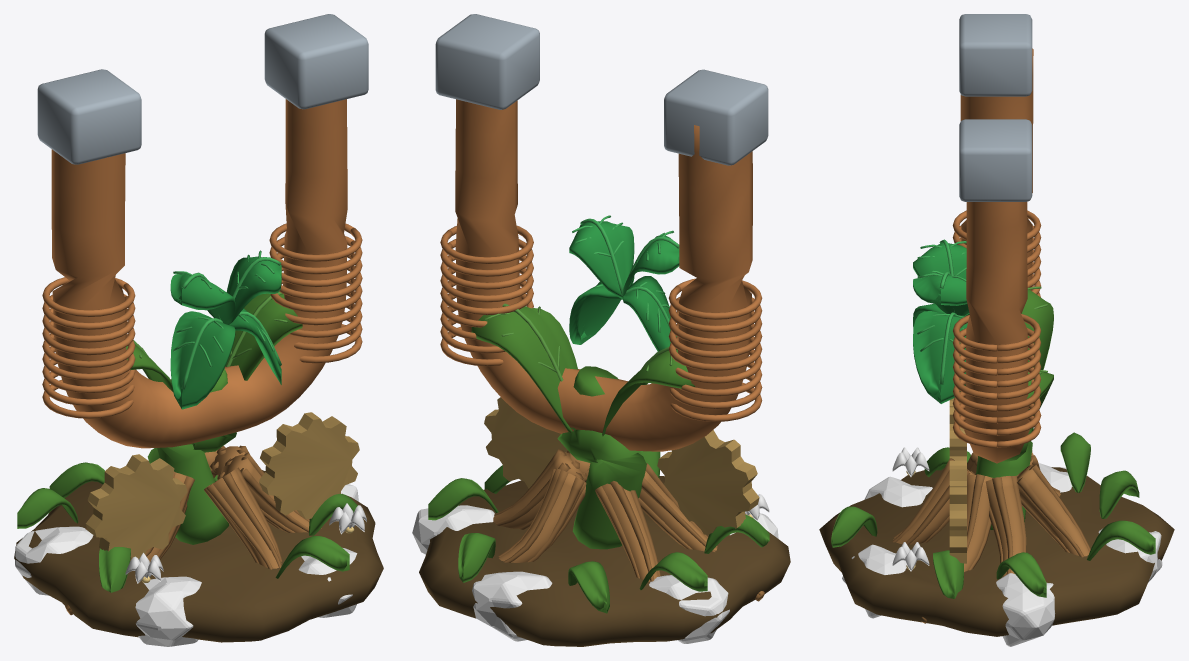
File: magnet-4.fbx
3 renders of one model, left to right at view 1: azimuth 30°, elevation 25°; view 2: azimuth 150°, elevation 25°; view 3: azimuth 270°, elevation 25°, orthographic. The views are drawn at different scales.
Parts seen in each view (by area): view 1: Barrel_Metal, magnet-4_Organic, Core_Metal, Coils_Metal, Clover_PortalBamboo, Turret_PortalBamboo, magnet-4_Bark, magnet-4_Stone, magnet-4_PortalBamboo, magnet-4_Petal; view 2: Barrel_Metal, magnet-4_Organic, Coils_Metal, Turret_PortalBamboo, magnet-4_Bark, Core_Metal, Clover_PortalBamboo, magnet-4_PortalBamboo, magnet-4_Stone; view 3: Barrel_Metal, magnet-4_Organic, magnet-4_Bark, Coils_Metal, magnet-4_PortalBamboo, Clover_PortalBamboo, magnet-4_Stone, Turret_PortalBamboo, Core_Metal, magnet-4_Petal.
Boxes of the visible parts, <box> form: Barrel_Metal: <box>37,14,368,448</box>; magnet-4_Organic: <box>14,470,383,642</box>; Core_Metal: <box>85,412,359,559</box>; Coils_Metal: <box>42,223,362,418</box>; Clover_PortalBamboo: <box>170,250,281,409</box>; Turret_PortalBamboo: <box>126,292,302,544</box>; magnet-4_Bark: <box>65,445,321,615</box>; magnet-4_Stone: <box>15,484,358,646</box>; magnet-4_PortalBamboo: <box>17,462,357,592</box>; magnet-4_Petal: <box>125,503,366,583</box>; Barrel_Metal: <box>435,14,768,451</box>; magnet-4_Organic: <box>419,476,790,646</box>; Coils_Metal: <box>440,225,762,421</box>; Turret_PortalBamboo: <box>471,303,694,549</box>; magnet-4_Bark: <box>493,449,764,601</box>; Core_Metal: <box>484,397,759,534</box>; Clover_PortalBamboo: <box>569,215,679,351</box>; magnet-4_PortalBamboo: <box>428,451,769,613</box>; magnet-4_Stone: <box>412,505,778,643</box>; Barrel_Metal: <box>959,14,1033,463</box>; magnet-4_Organic: <box>819,467,1174,636</box>; magnet-4_Bark: <box>892,450,1090,623</box>; Coils_Metal: <box>952,210,1041,447</box>; magnet-4_PortalBamboo: <box>831,432,1155,598</box>; Clover_PortalBamboo: <box>913,239,969,403</box>; magnet-4_Stone: <box>842,463,1162,646</box>; Turret_PortalBamboo: <box>976,286,1053,529</box>; Core_Metal: <box>949,398,966,563</box>; magnet-4_Petal: <box>892,447,929,571</box>.
Size of the model in its own units: 82.25 by 129 by 82.7.
